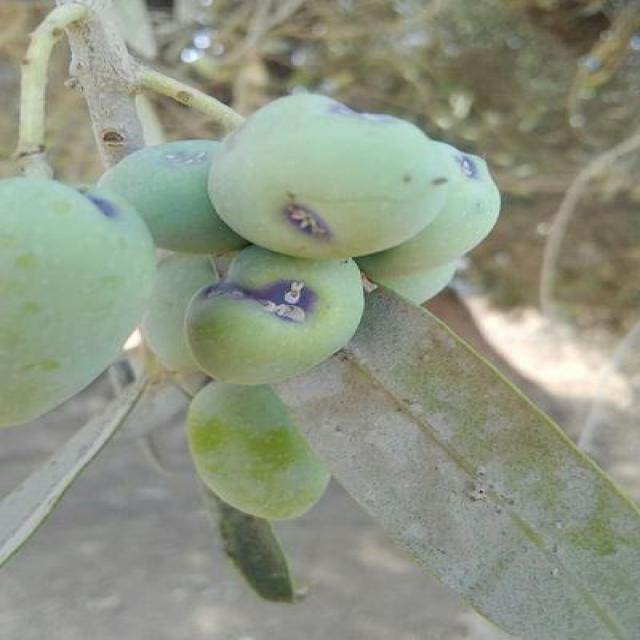Anthracnose: (210, 92, 460, 258), (189, 246, 363, 384)
